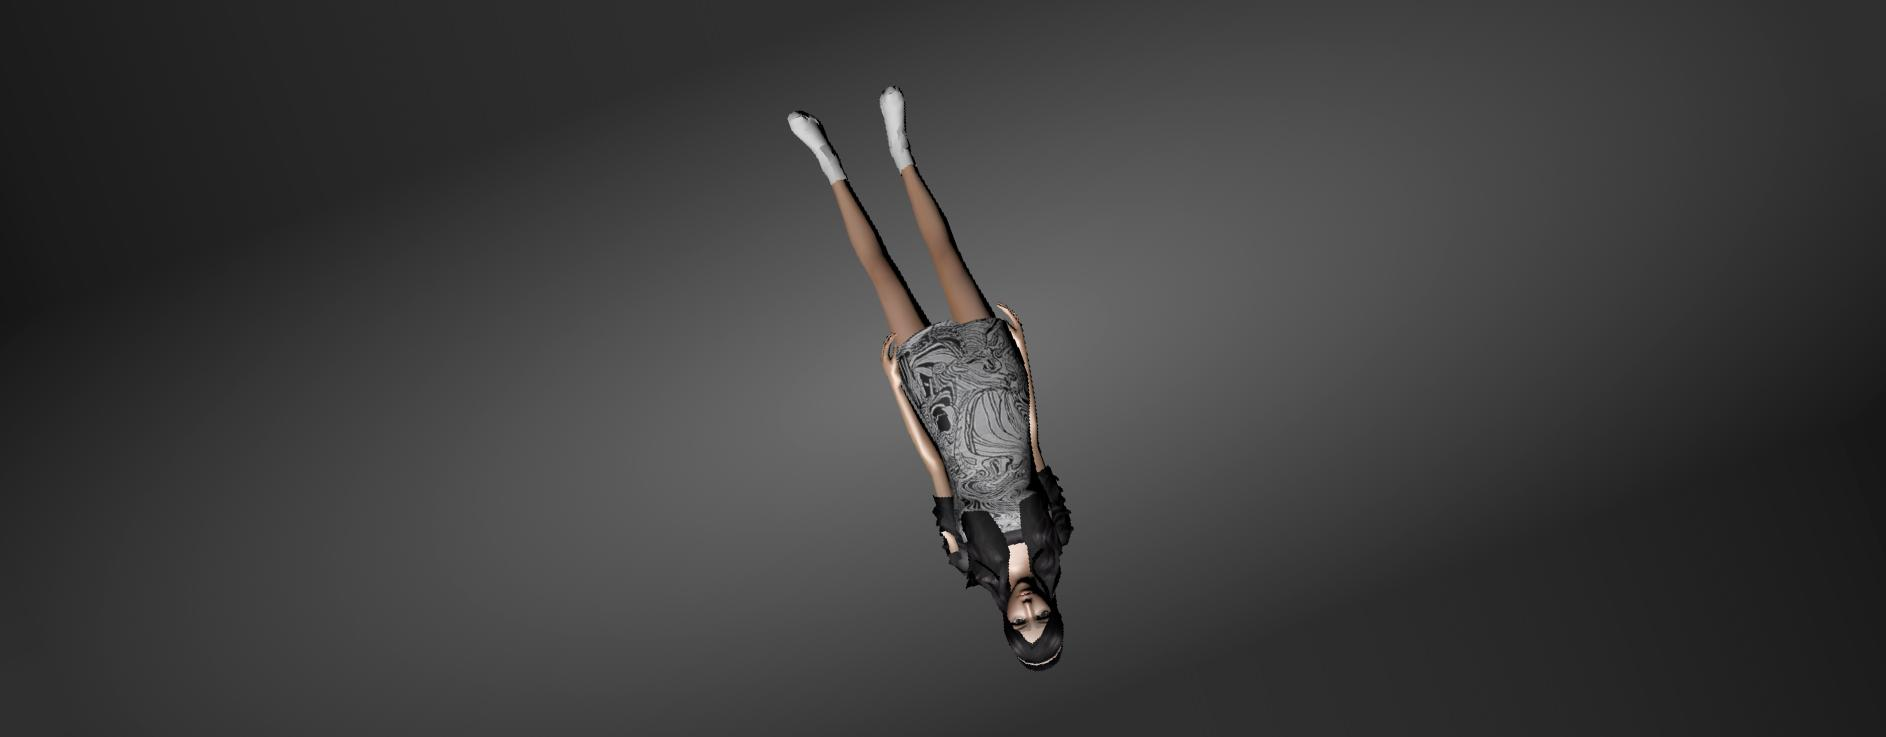clip: (942, 524, 961, 555)
